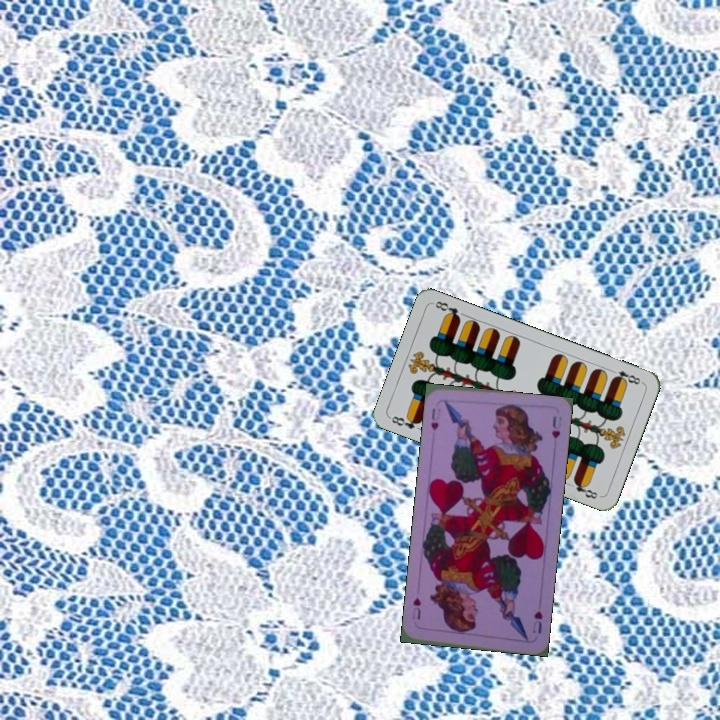E8: (606, 365, 645, 387), (387, 412, 424, 432)
HU: (529, 607, 545, 636), (427, 404, 443, 433)
